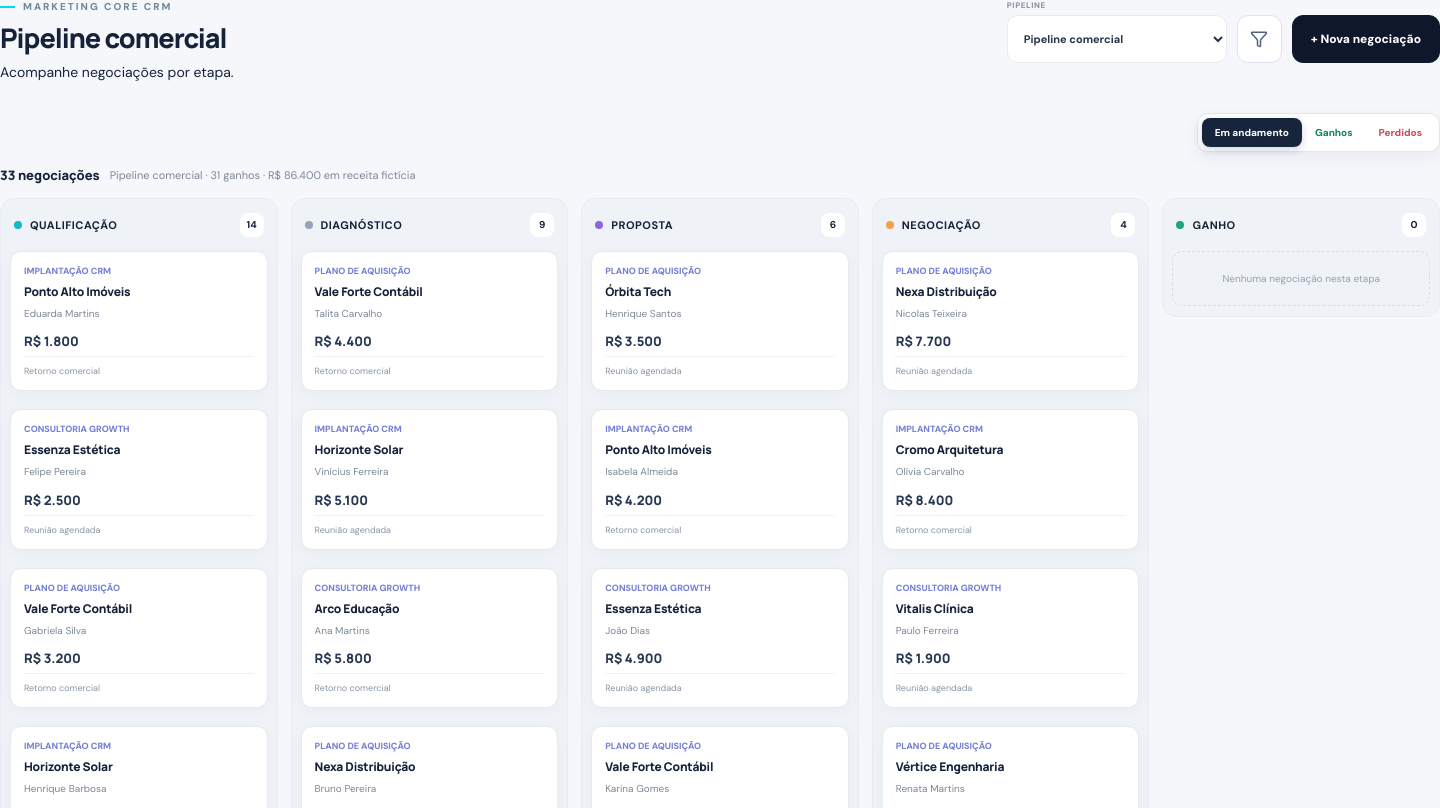
Test case: configuração de pipelines › aplica os critérios reais da lista de segmentação na pipeline
Click the button named "Filtrar pipeline" at (1259, 39), box [1237,15,1282,63]
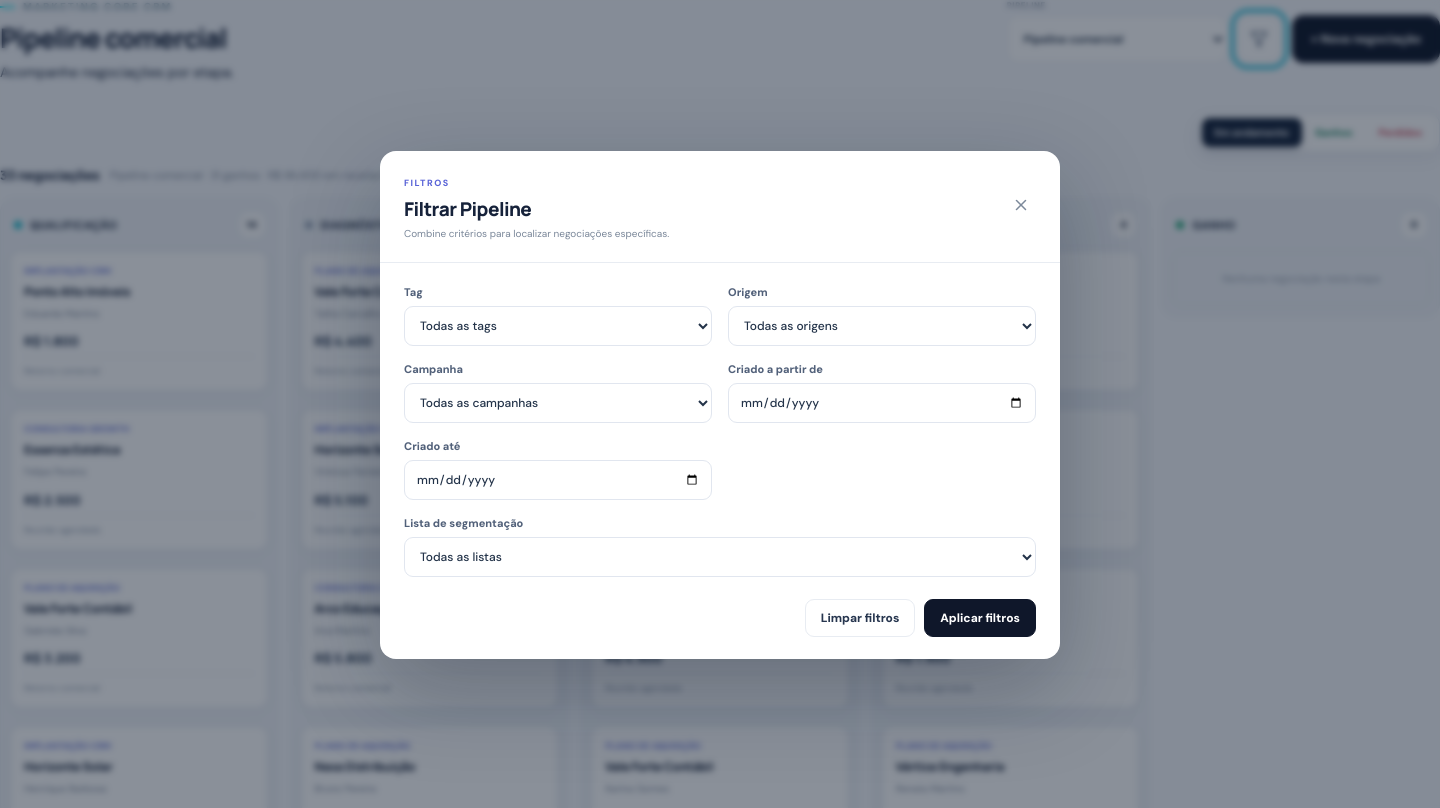
Select "Leads por indicação" in the dropdown named "Filtrar por lista de segmentação" at (720, 557), box [404,537,1036,577]
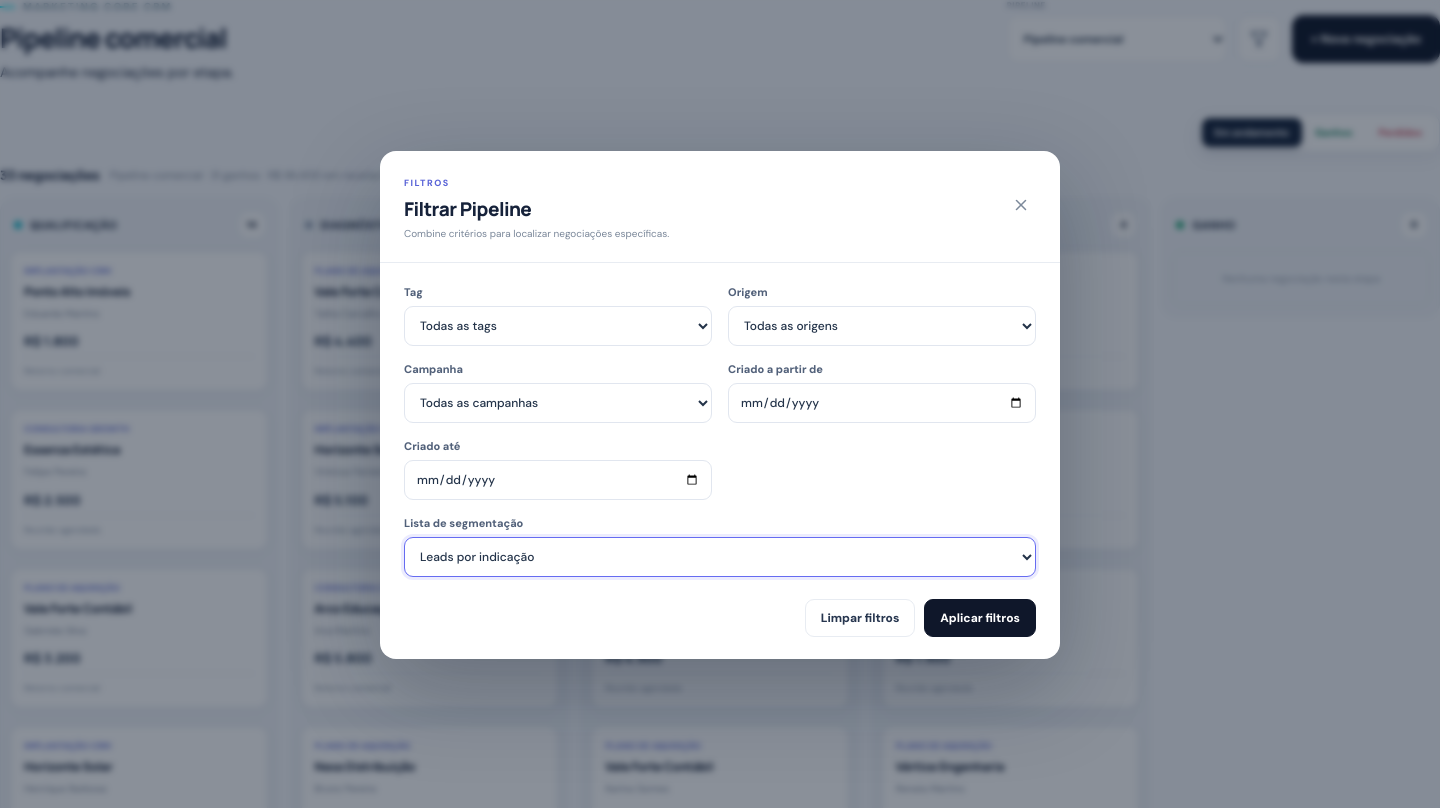
Click the button "Aplicar filtros" at (980, 618), box [924,599,1036,637]
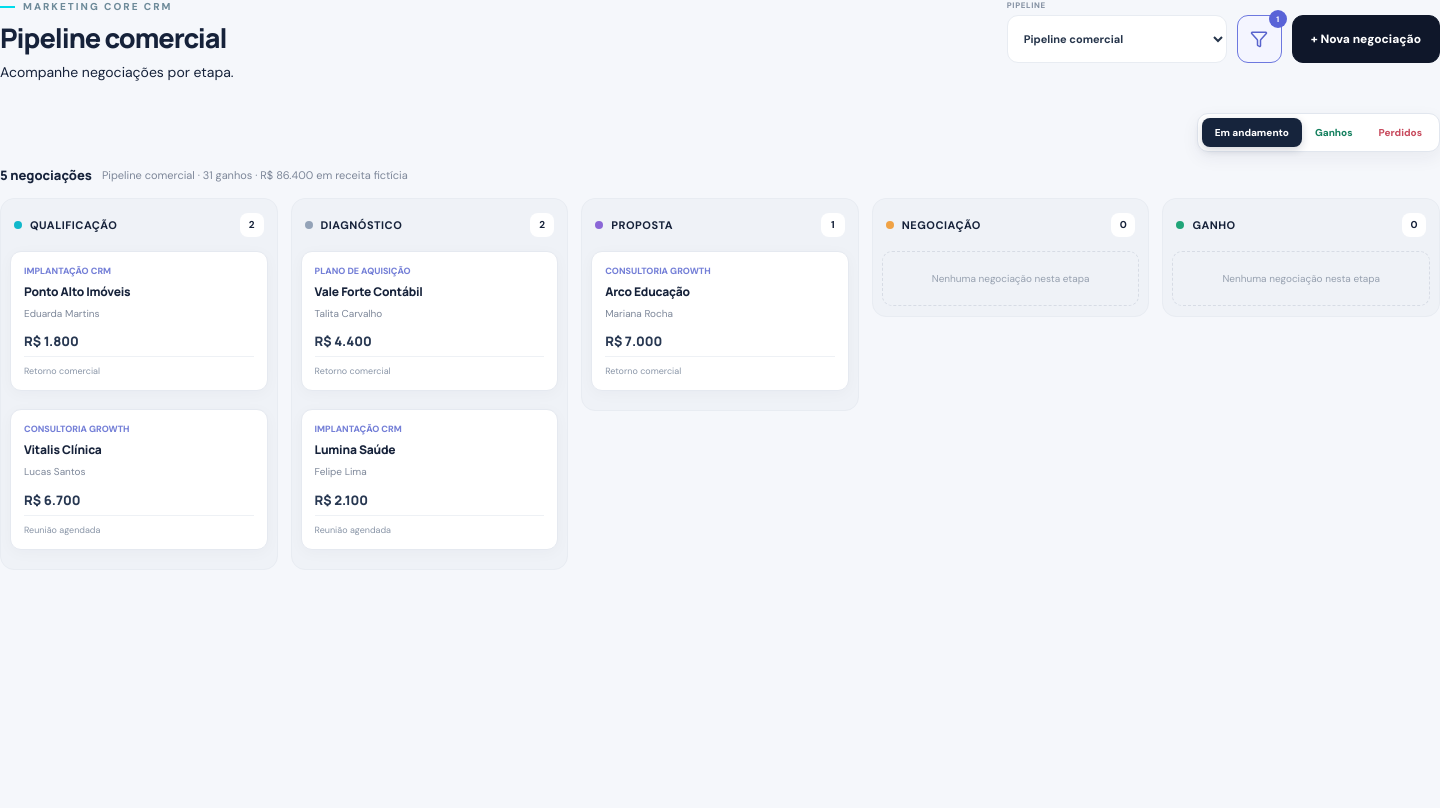
Expected: the button with test id "deal-card-opp-1" is shown, [10,251,268,391]
Now the button with test id "deal-card-opp-2" is gone
